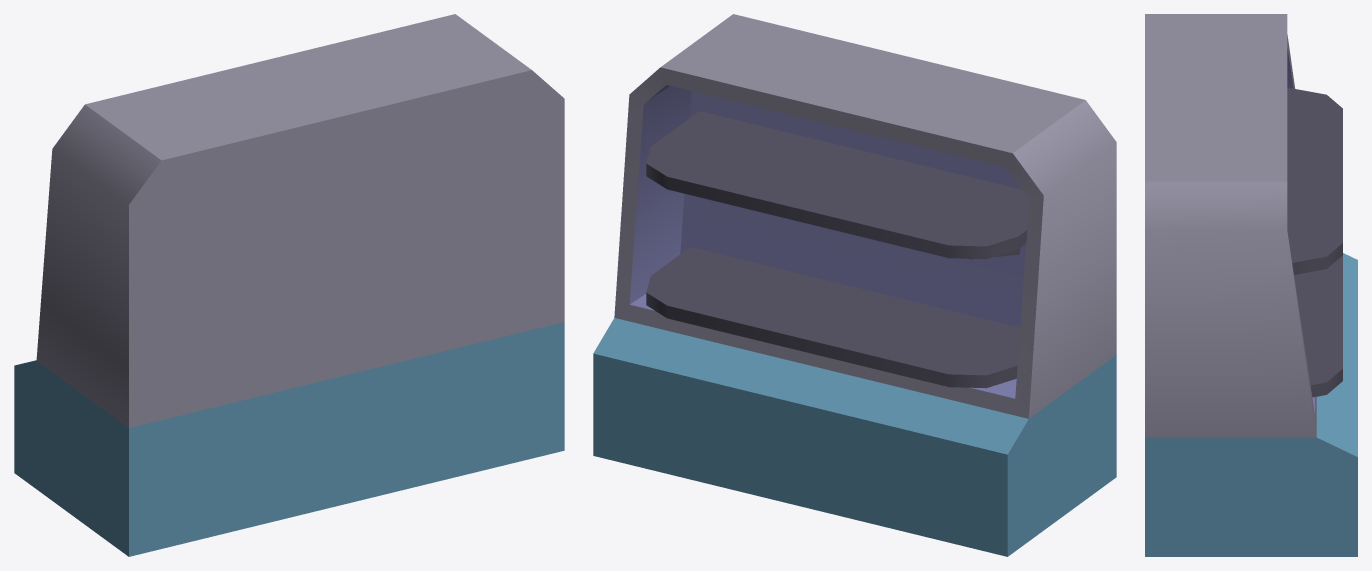
Rendered from Shelf2Cooled.fbx.
The picture shows the model from 3 angles, left to right: view 1: azimuth 30°, elevation 25°; view 2: azimuth 150°, elevation 25°; view 3: azimuth 270°, elevation 25°; orthographic projection. The views are drawn at different scales.
Parts seen in each view (by area): view 1: Shelf2Cooled; view 2: Shelf2Cooled; view 3: Shelf2Cooled.
Boxes of the visible parts, <box> form: Shelf2Cooled: <box>14,14,564,556</box>; Shelf2Cooled: <box>593,14,1116,556</box>; Shelf2Cooled: <box>1145,14,1357,556</box>.
Size of the model in its own units: 93.46 by 79.64 by 42.59.
